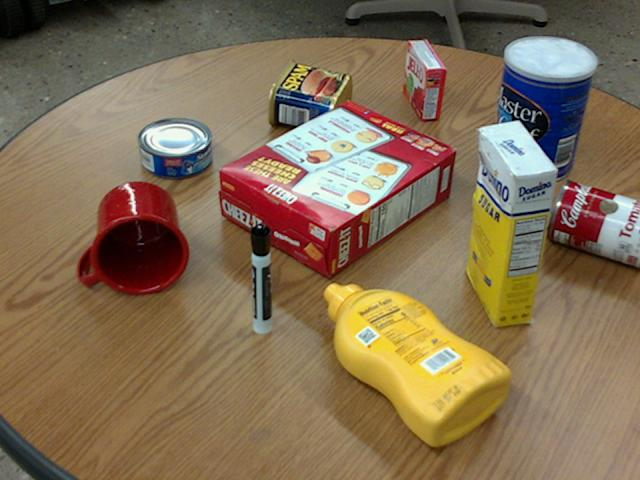cracker_box: (218, 101, 454, 277)
gelatin_box: (404, 40, 445, 119)
large_marker: (249, 222, 270, 333)
master_chef_can: (490, 36, 596, 182)
mug: (76, 181, 188, 294)
mustard_bottle: (323, 283, 509, 445)
potted_meat_can: (267, 60, 352, 132)
sugar_box: (468, 120, 555, 327)
tomato_soup_can: (547, 178, 639, 265)
tuna_fish_can: (137, 117, 211, 176)
